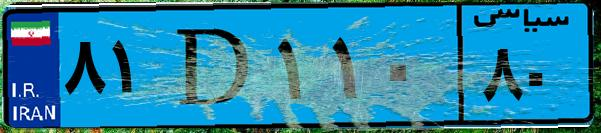0: (385, 28, 445, 110), (525, 38, 570, 115)
1: (270, 28, 330, 110), (330, 28, 385, 110), (110, 28, 158, 98)
8: (57, 26, 110, 100), (475, 38, 525, 113)
D: (158, 12, 270, 120)
